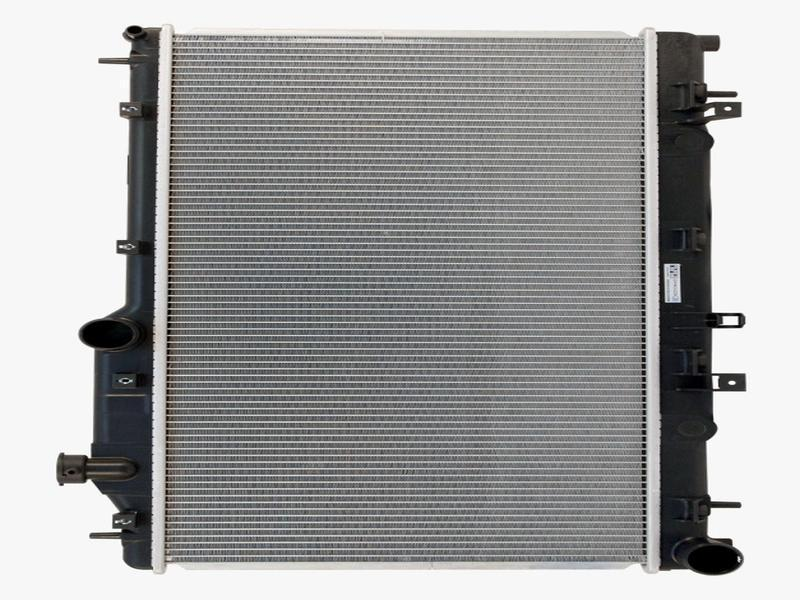c1: (87, 509, 144, 550)
c10: (675, 416, 708, 443)
c11: (673, 346, 749, 393)
c12: (670, 308, 747, 332)
c13: (669, 227, 709, 253)
c14: (670, 80, 744, 125)
c2: (56, 451, 141, 488)
c3: (110, 369, 142, 394)
c4: (73, 314, 146, 357)
c5: (113, 238, 143, 257)
c6: (117, 100, 145, 121)
c7: (95, 21, 153, 66)
c8: (671, 534, 749, 579)
c9: (672, 497, 744, 524)
